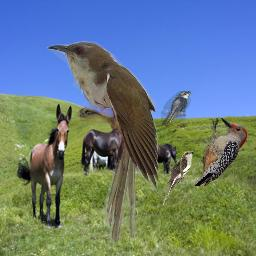Cuckoo: (47, 40, 158, 242), (163, 151, 195, 205), (161, 91, 191, 127)
Woodpecker: (195, 118, 247, 186)
